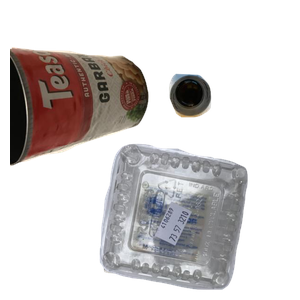glass: (166, 71, 300, 181)
metal: (10, 44, 151, 203)
plastic: (97, 141, 300, 300)
trash: (101, 157, 270, 300)
